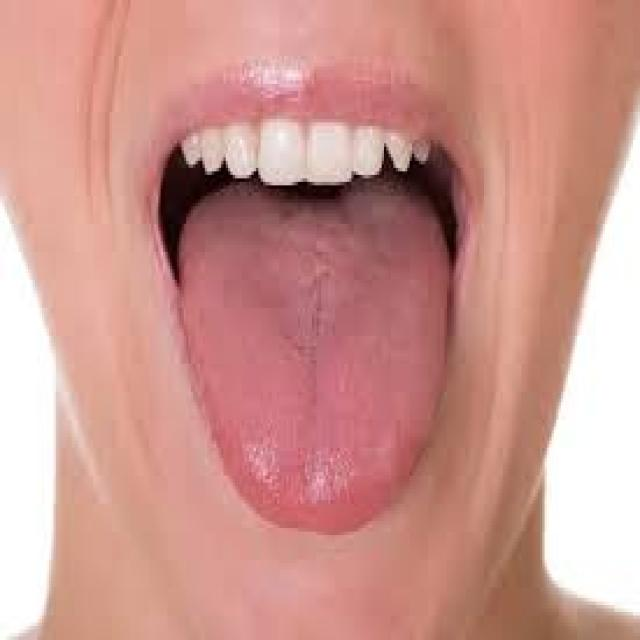normal_tongue: (143, 91, 507, 624)
